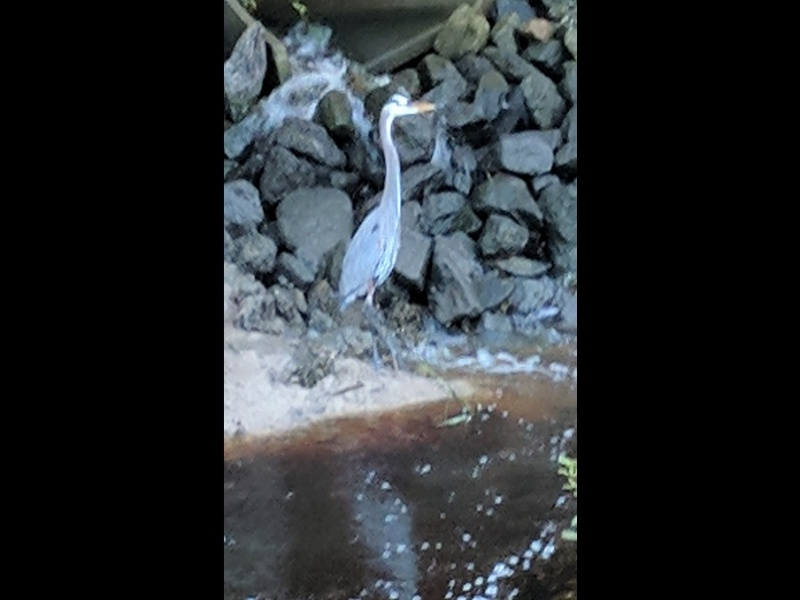heron: (335, 91, 438, 370)
